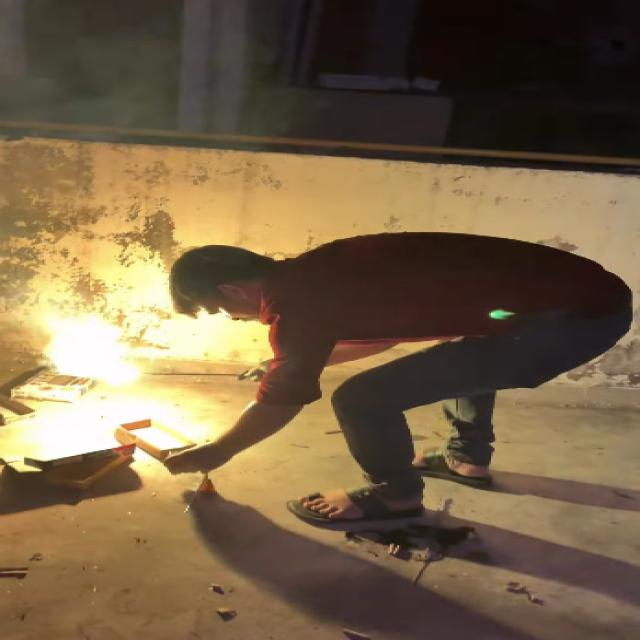fire: (19, 390, 191, 455), (41, 315, 139, 388)
